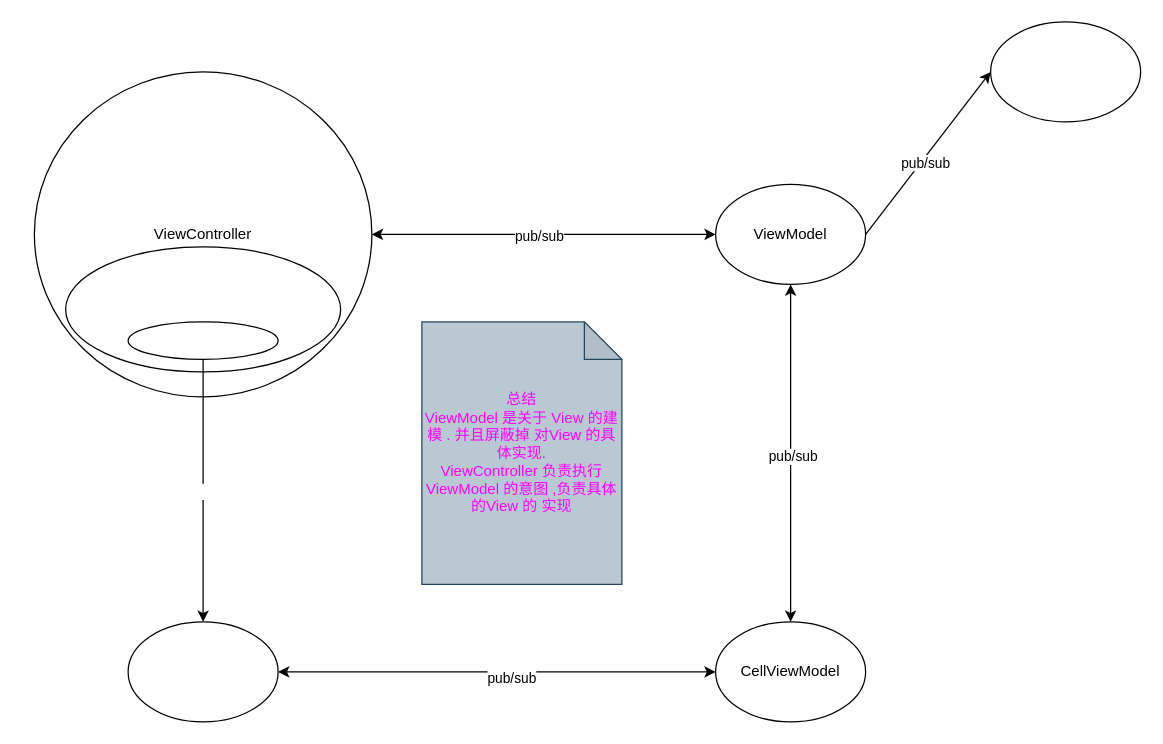
The diagram is 1163 pixels wide and 744 high, and some of its shapes have lost their labels. Each missing label, with the box of its shape:
Cell: (127, 621, 278, 722)
Model: (989, 21, 1141, 122)
所有的 View: (64, 246, 341, 372)
